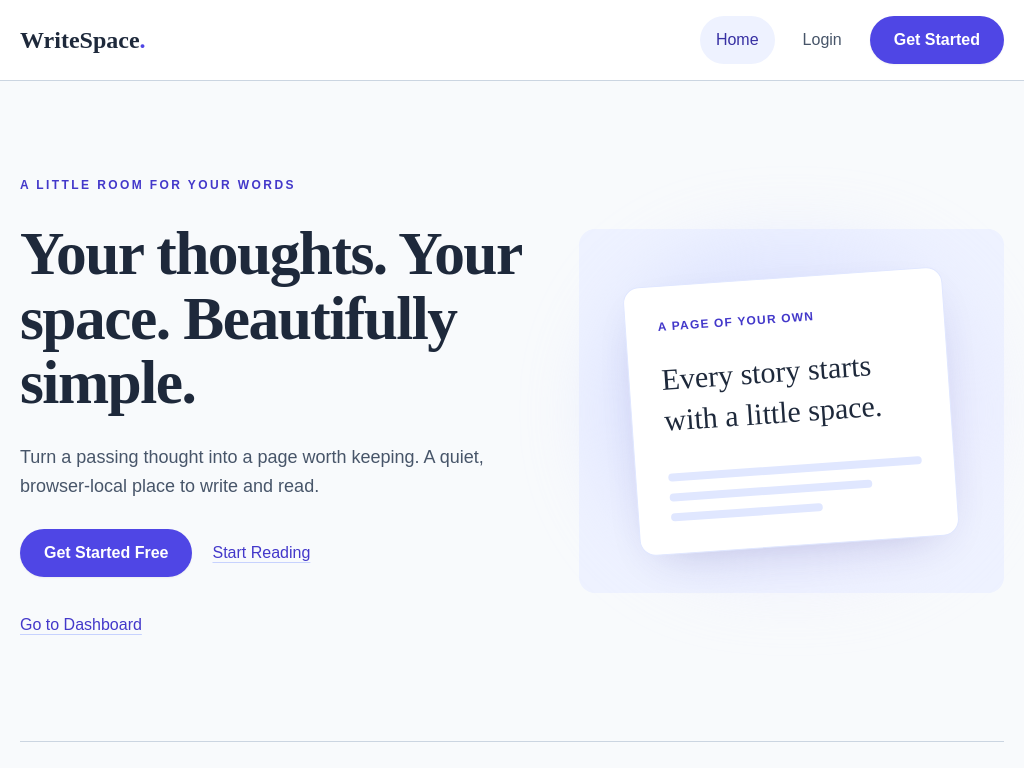
Test: guest Get Started Free enters /register through a real App click
Click the link "Get Started Free".
click(106, 553)  # box x1=20 y1=529 x2=192 y2=577
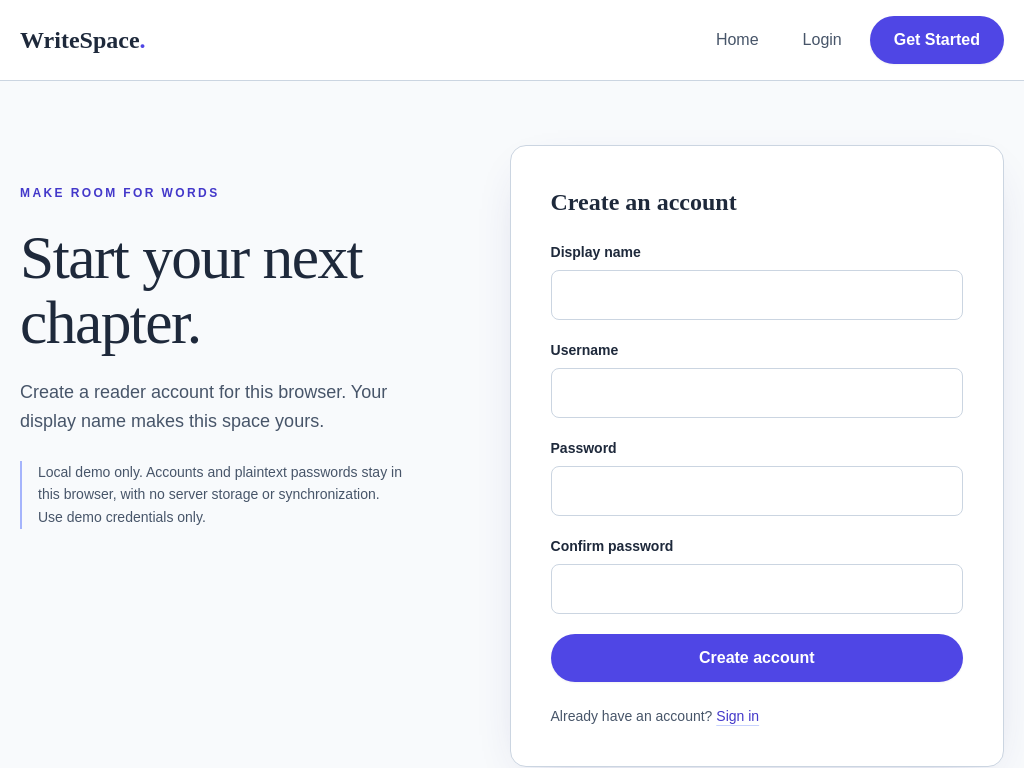
Expected: the heading "Start your next chapter." is shown, x1=20 y1=223 x2=362 y2=356
